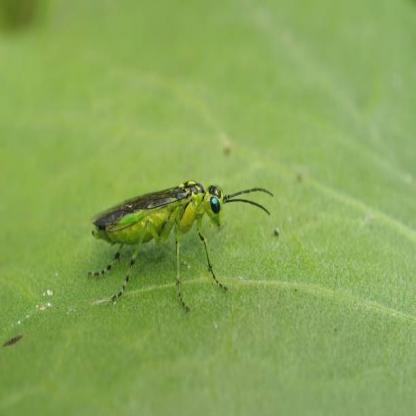sawfly: (82, 176, 277, 322)
